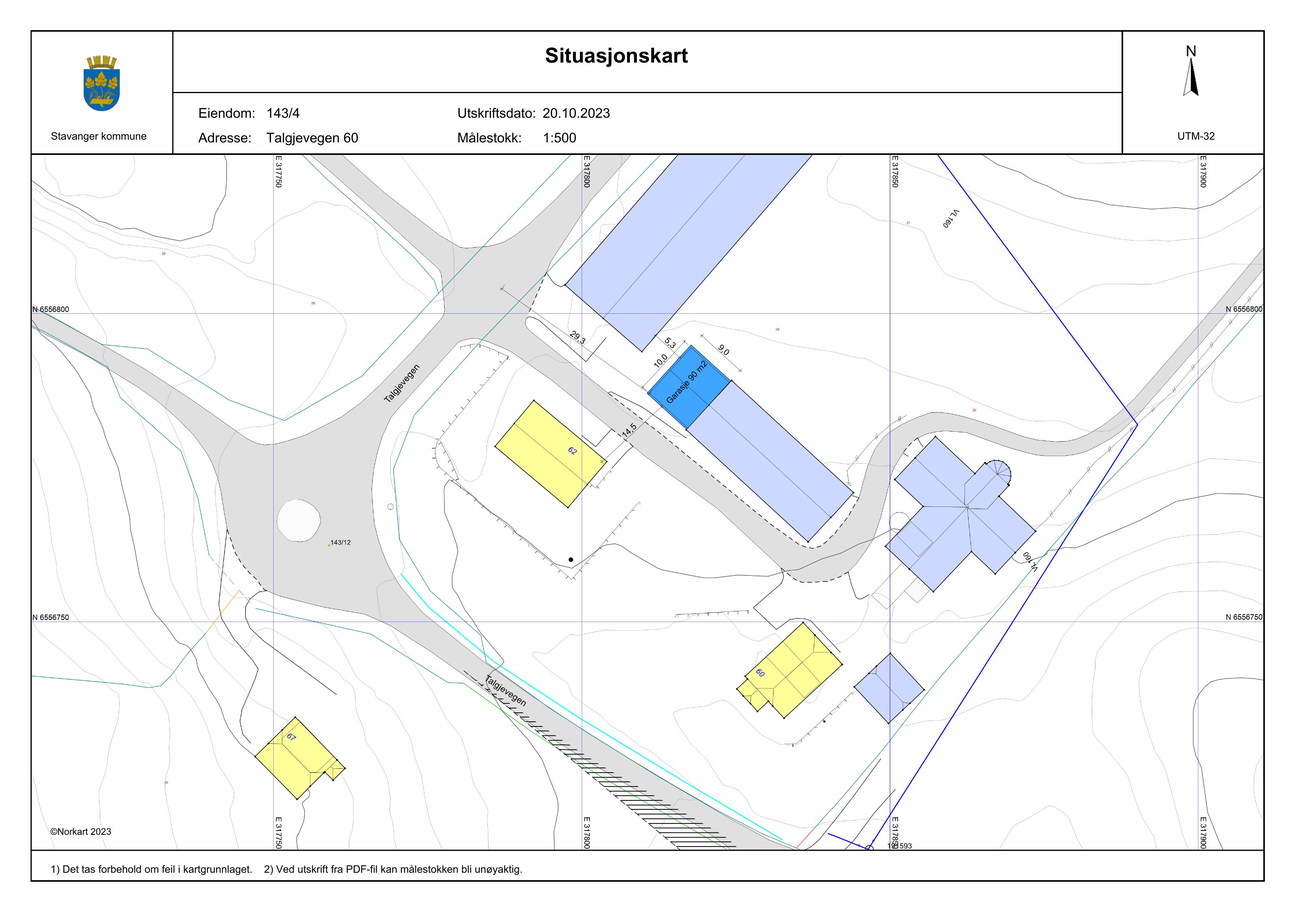situasjonskart: (33, 156, 1264, 849)
